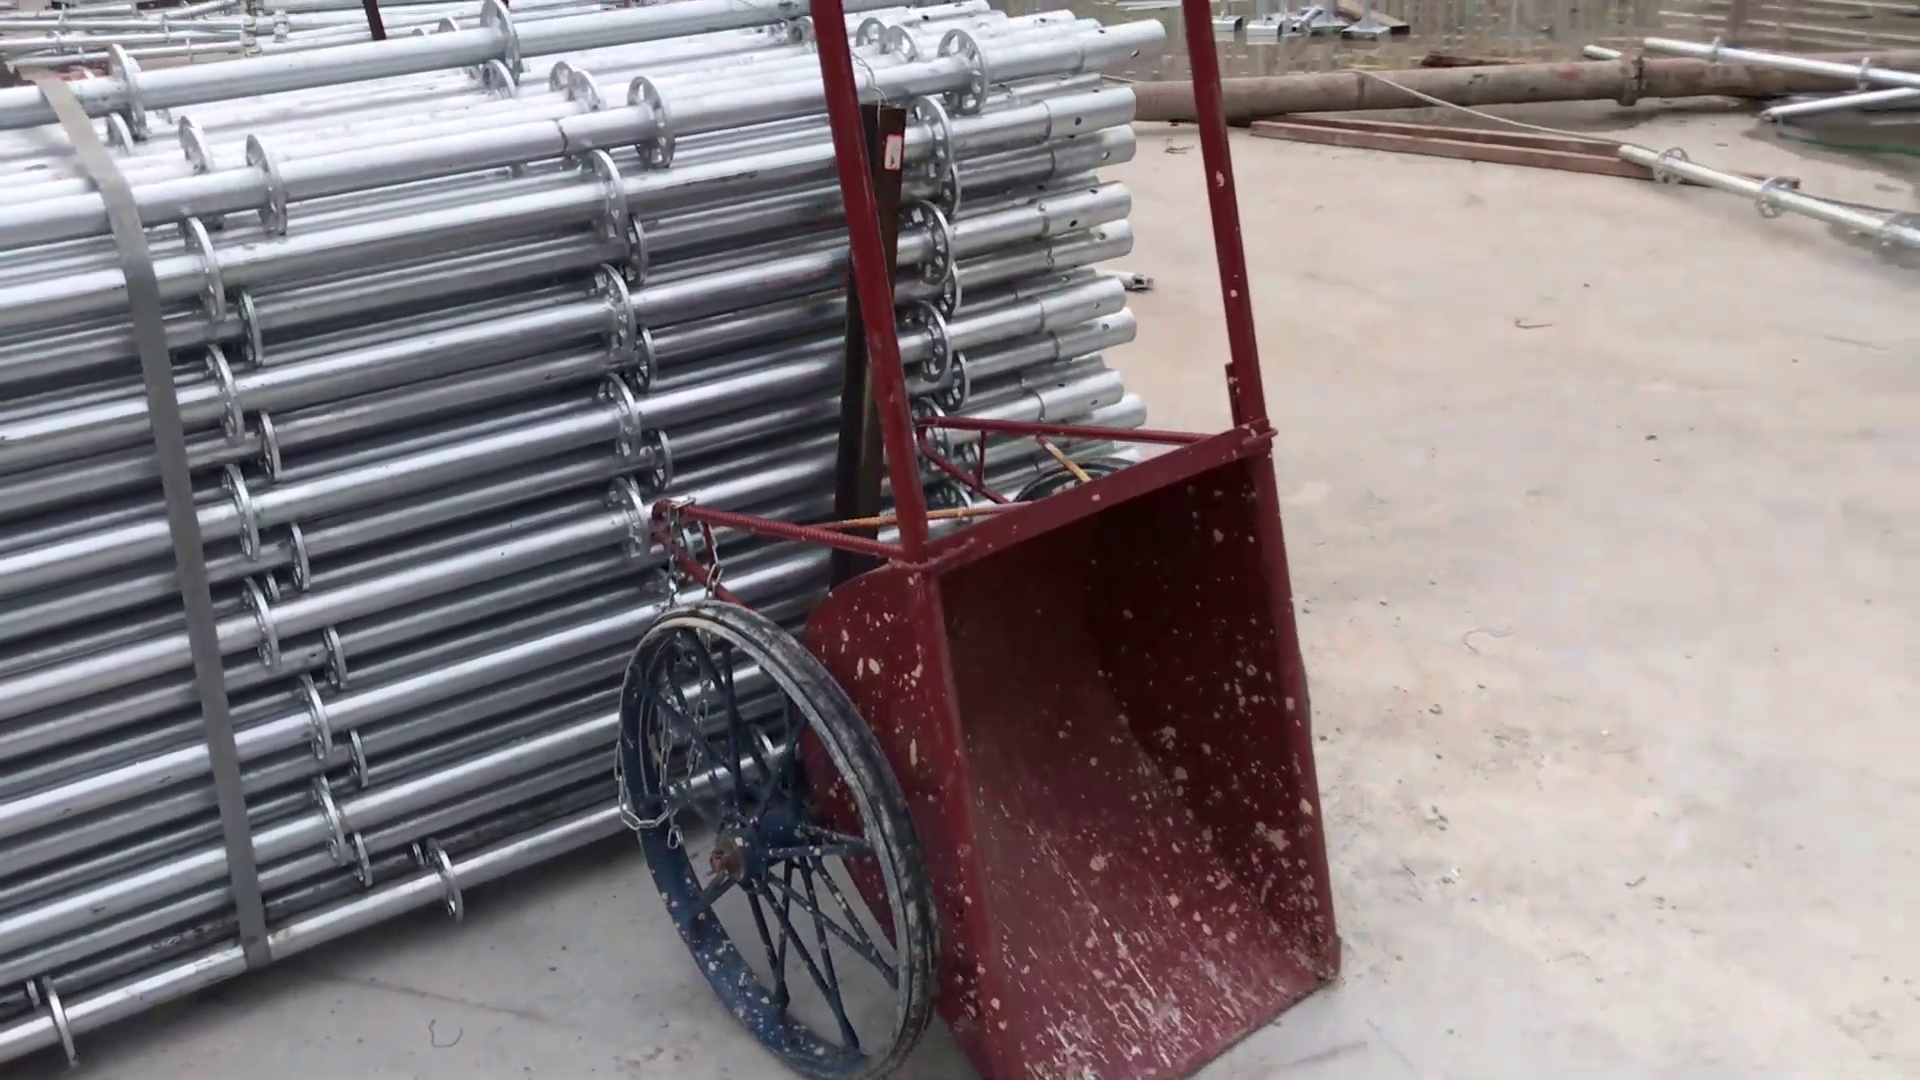handcart: (608, 1, 1348, 1080)
scaffold: (1, 9, 1191, 487)
